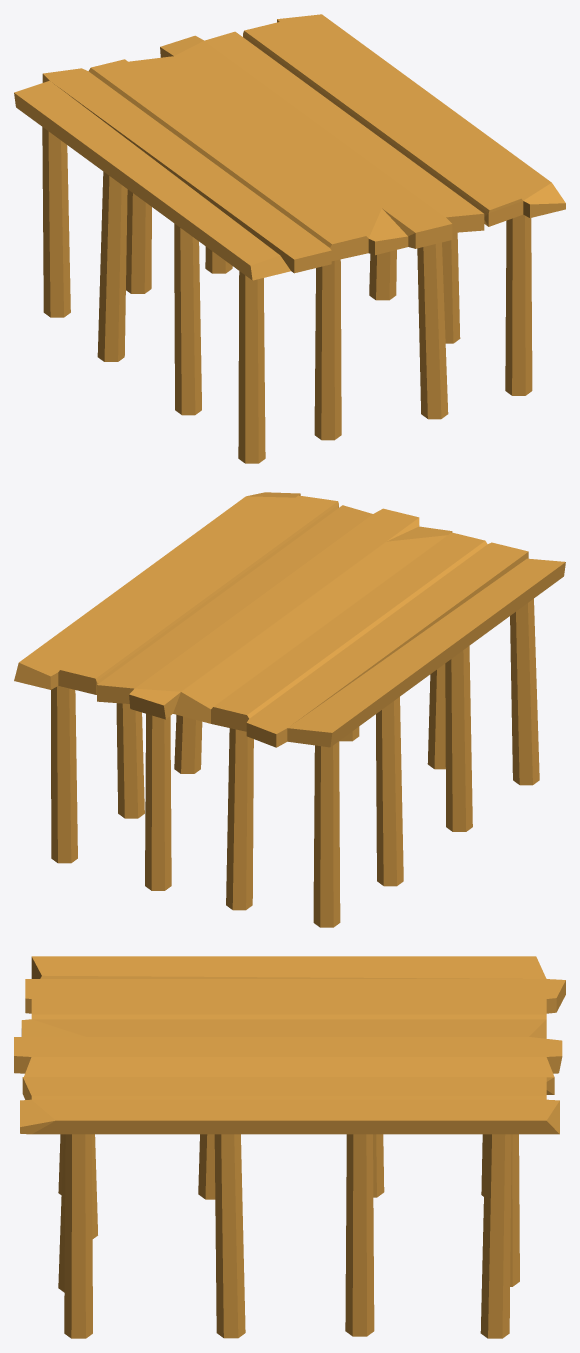
Rendered from pirates-pirate-platform-big.glb.
3 renders of one model, top to bottom at view 1: azimuth 30°, elevation 25°; view 2: azimuth 150°, elevation 25°; view 3: azimuth 270°, elevation 25°, orthographic. The views are drawn at different scales.
Visible parts, largest first — view 1: pirate-platform-big; view 2: pirate-platform-big; view 3: pirate-platform-big.
Boxes of the visible parts, box(x1,y1,x2,y2) form: pirate-platform-big: box(14, 14, 565, 463); pirate-platform-big: box(14, 492, 565, 927); pirate-platform-big: box(14, 956, 565, 1338).
Bounding box in the file's own units: 4.13 × 2.69 × 5.91.
